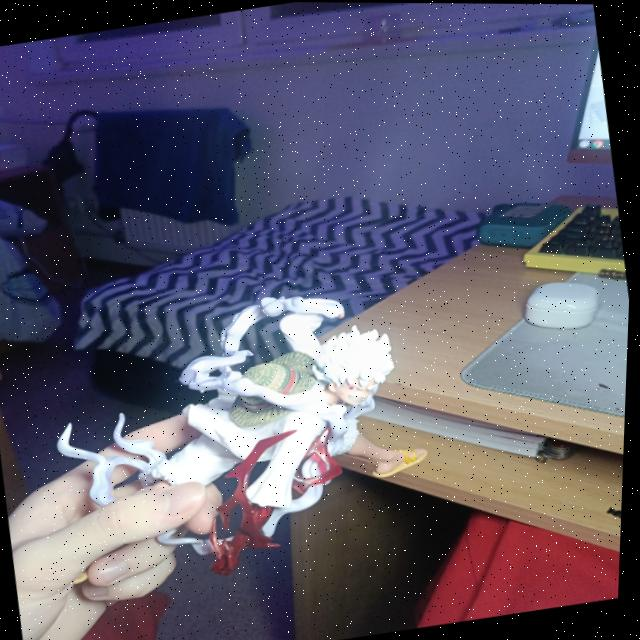luffy: (40, 271, 450, 582)
